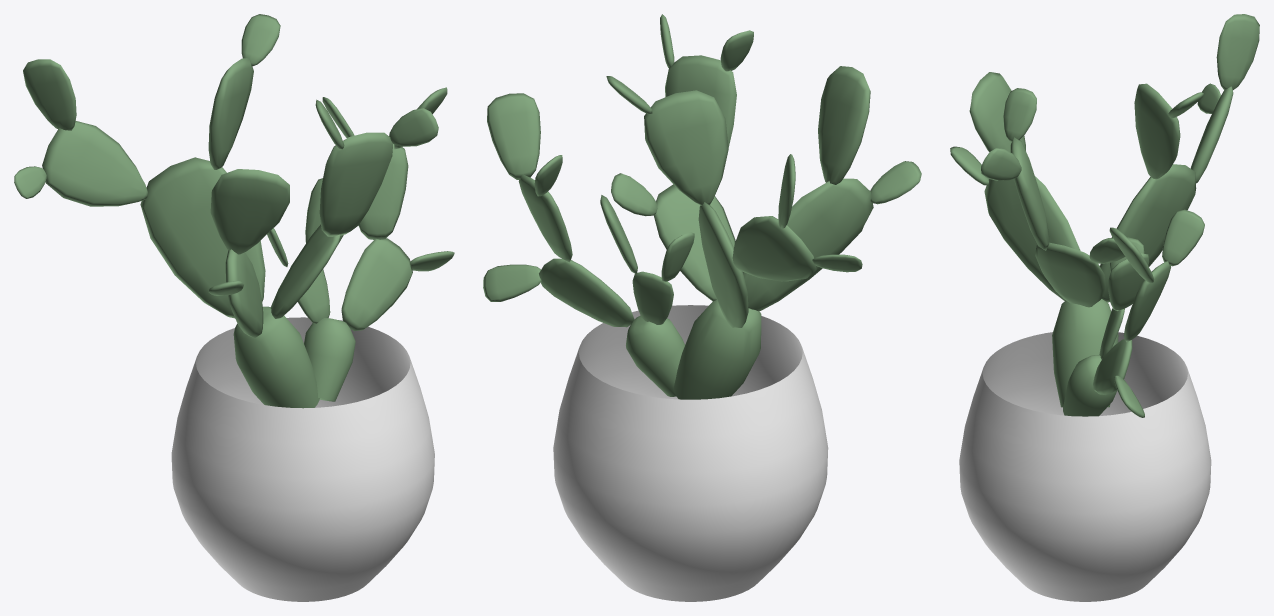
Rendered from prickley-pear.glb.
3 renders of one model, left to right at view 1: azimuth 30°, elevation 25°; view 2: azimuth 150°, elevation 25°; view 3: azimuth 270°, elevation 25°, orthographic. The views are drawn at different scales.
Visible parts, largest first — view 1: plant, pot; view 2: plant, pot; view 3: pot, plant.
Boxes of the visible parts, box(x1,y1,x2,y2) form: plant: box(14, 14, 454, 408); pot: box(171, 317, 434, 601); plant: box(483, 14, 921, 399); pot: box(553, 305, 828, 601); pot: box(959, 332, 1211, 601); plant: box(950, 14, 1259, 417).
Size of the model in its own units: 1 by 1.22 by 0.7.
